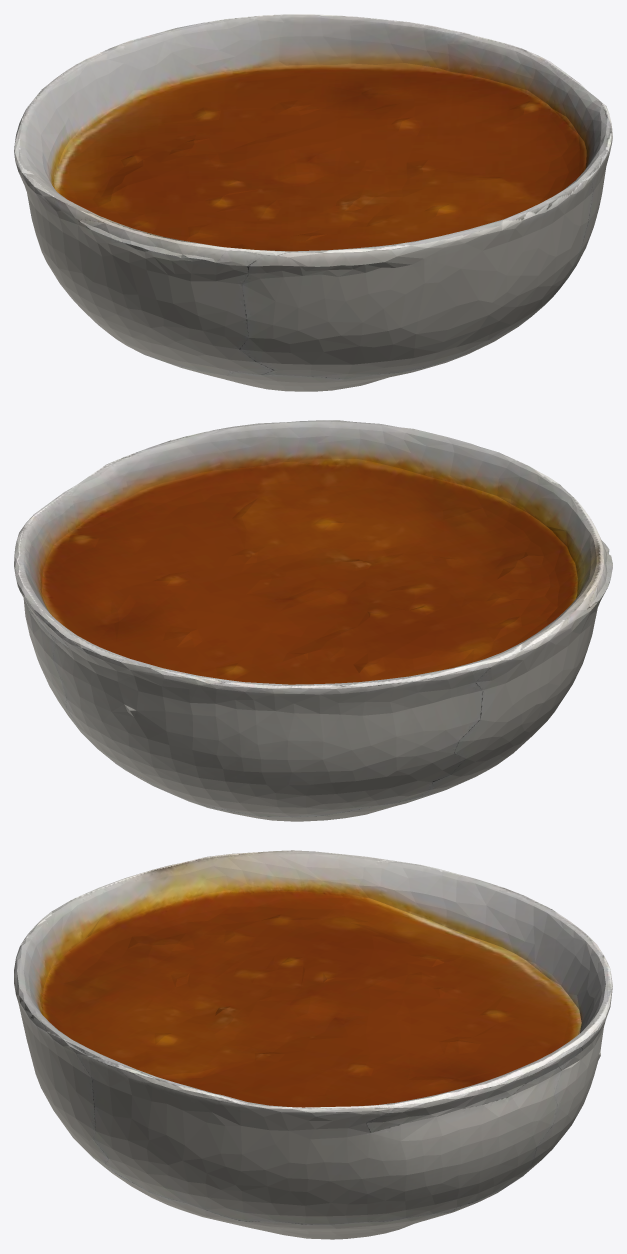
The model's file is bean.glb.
The picture shows the model from 3 angles, top to bottom: view 1: azimuth 30°, elevation 25°; view 2: azimuth 150°, elevation 25°; view 3: azimuth 270°, elevation 25°; orthographic projection.
Parts seen in each view (by area): view 1: world; view 2: world; view 3: world.
Boxes of the visible parts, bbox=[...] form: world: bbox=[14, 14, 612, 391]; world: bbox=[14, 420, 612, 821]; world: bbox=[14, 850, 612, 1239].
Bounding box in the file's own units: 0.4946 × 0.2162 × 0.4937.
1 material, 1 textured.
